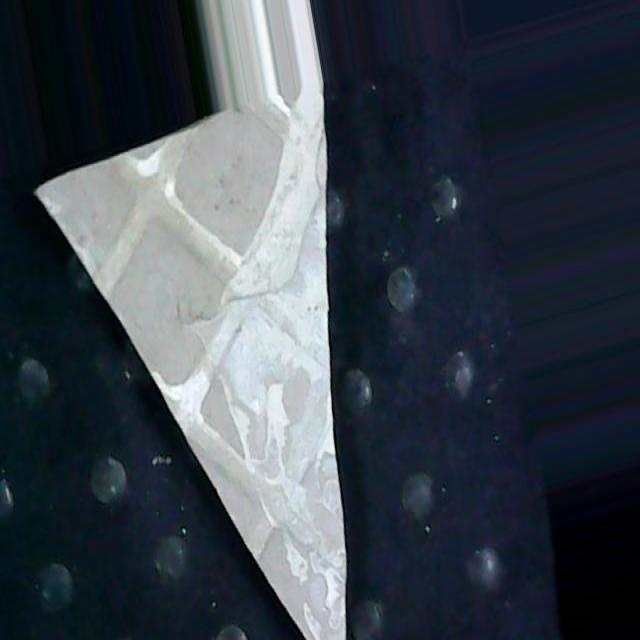-Other waste - ceramic-: (38, 96, 361, 638)
